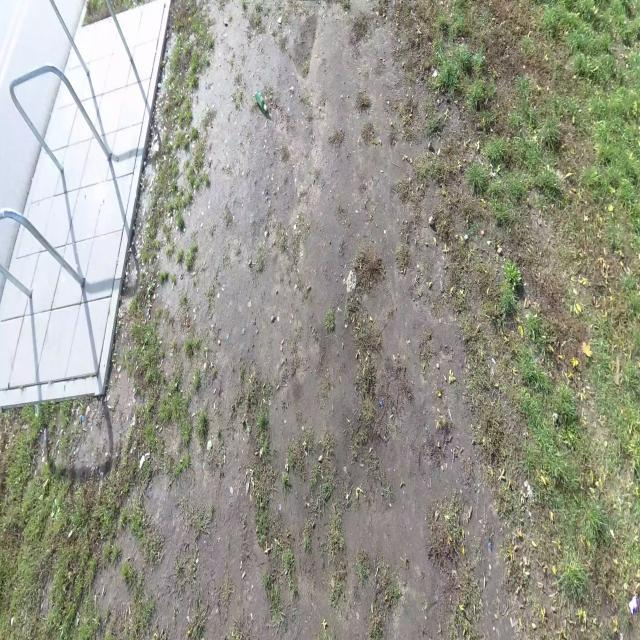rubbish: (255, 92, 268, 118)
